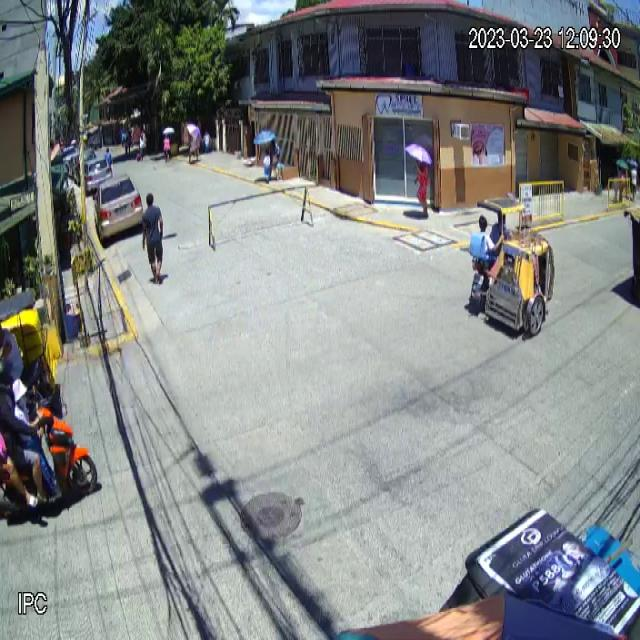Car: (93, 173, 144, 244)
Tricycle: (470, 197, 555, 336)
